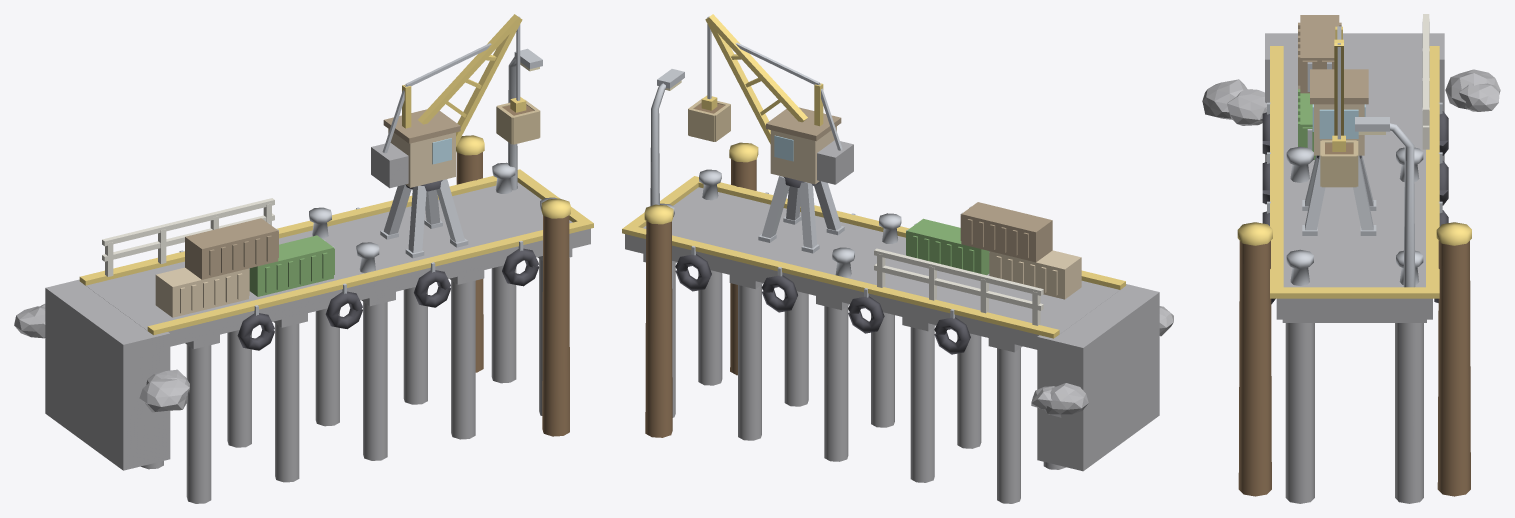
File: civ.pier.glb
3 renders of one model, left to right at view 1: azimuth 30°, elevation 25°; view 2: azimuth 150°, elevation 25°; view 3: azimuth 270°, elevation 25°, orthographic. The views are drawn at different scales.
Visible parts, largest first — view 1: Stone, FruitGold, Log, Metal, PaintDark, Paint, Rubber, Leaf, Bone, Rope; view 2: Stone, FruitGold, Metal, Log, PaintDark, Paint, Rubber, Bone, Leaf, Rope; view 3: Stone, Log, FruitGold, Metal, PaintDark, Rubber, Rope, Bone, Glass, Paint, Leaf.
Boxes of the visible parts, x1,y1,x2,y2 form: Stone: [14, 143, 590, 503]; FruitGold: [79, 14, 593, 335]; Log: [456, 152, 569, 436]; Metal: [179, 16, 556, 315]; PaintDark: [185, 109, 460, 279]; Paint: [155, 129, 455, 317]; Rubber: [237, 180, 539, 350]; Leaf: [249, 235, 334, 296]; Bone: [102, 198, 274, 276]; Rope: [496, 100, 540, 144]; Stone: [625, 140, 1173, 503]; FruitGold: [622, 14, 1125, 338]; Metal: [650, 16, 989, 318]; Log: [645, 159, 756, 437]; PaintDark: [766, 107, 1052, 262]; Paint: [770, 126, 1081, 299]; Rubber: [675, 177, 970, 354]; Bone: [874, 248, 1043, 325]; Leaf: [906, 218, 989, 275]; Rope: [688, 98, 730, 141]; Stone: [1202, 33, 1500, 503]; Log: [1238, 240, 1470, 496]; FruitGold: [1237, 26, 1471, 298]; Metal: [1267, 26, 1442, 287]; PaintDark: [1298, 15, 1368, 104]; Rubber: [1262, 111, 1448, 304]; Rope: [1320, 140, 1358, 187]; Bone: [1422, 14, 1429, 149]; Glass: [1312, 104, 1365, 138]; Paint: [1298, 85, 1364, 155]; Leaf: [1298, 89, 1315, 159].
Bounding box in the file's own units: 3.32 × 2.53 × 1.53.
